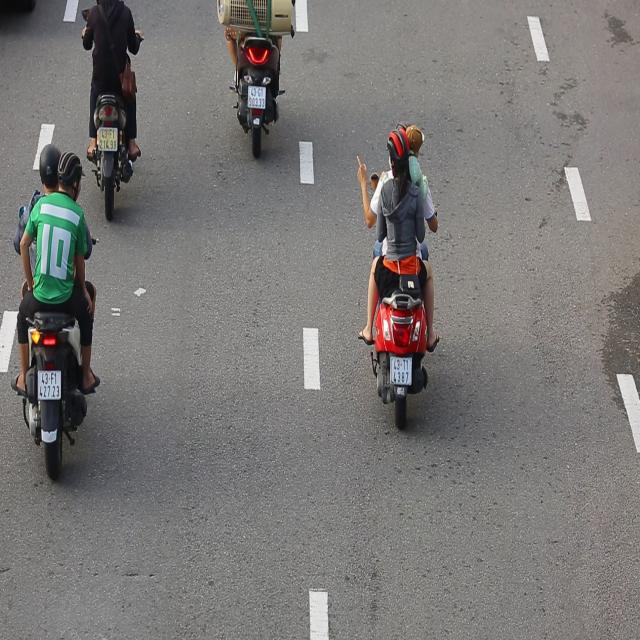motorbike: (8, 136, 106, 477), (358, 116, 442, 426)
